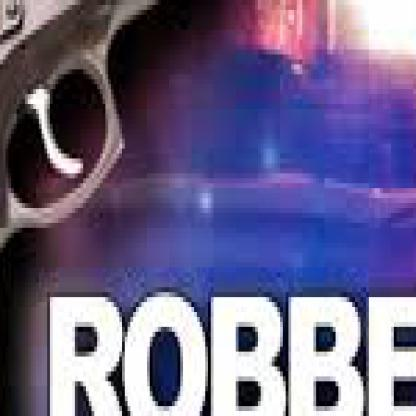gun: (0, 0, 278, 412)
